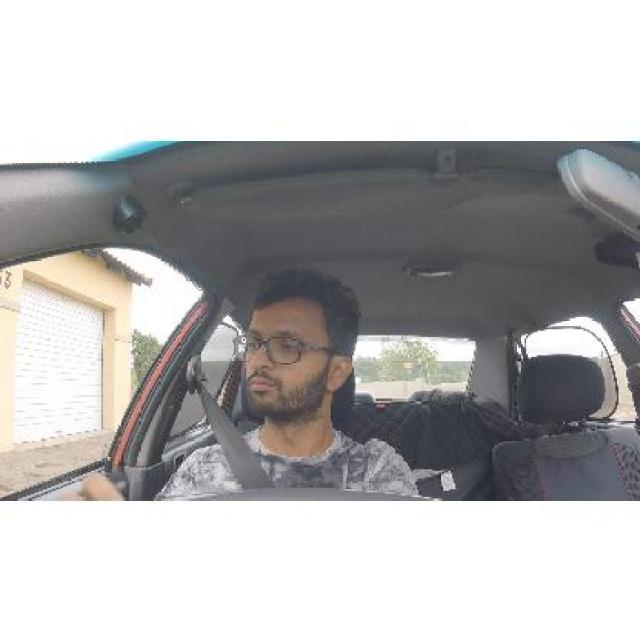LeftRight: (232, 268, 360, 435)
